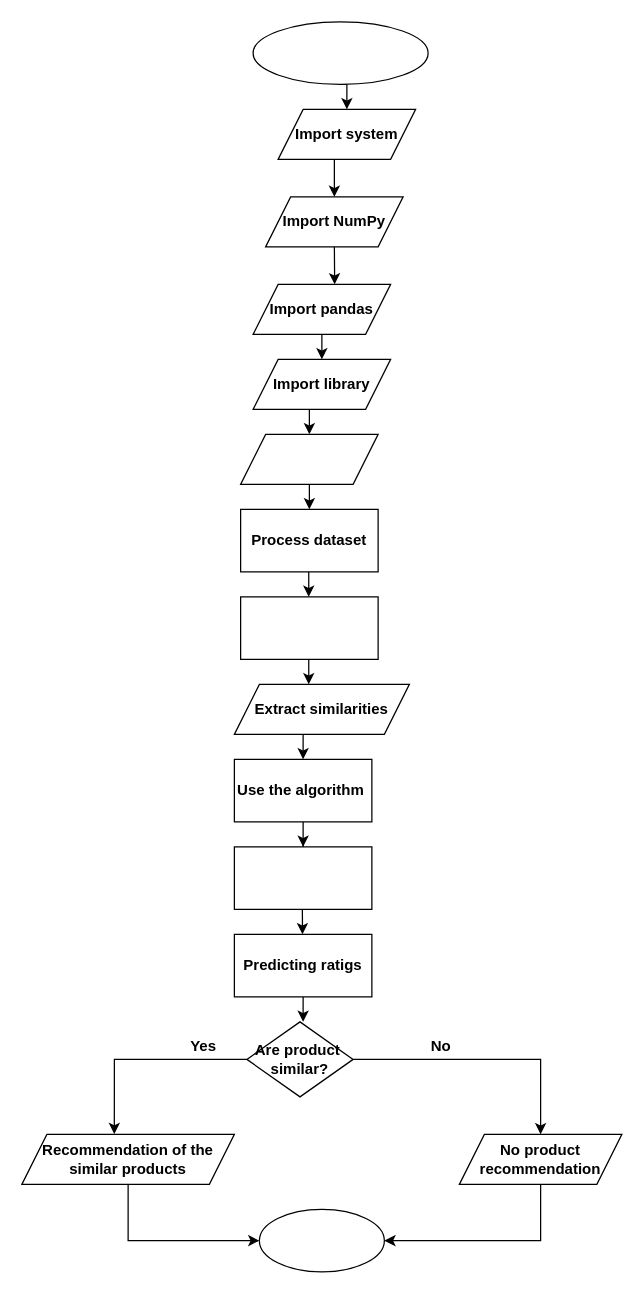
Image size: 644x1294. Some labels were removed from this diagram. The shapes that lost their labels are listed below. From the top down, each one's centre as x and y in pixels, then its label:
pixel 340 52: START
pixel 308 458: LOAD dataset
pixel 308 627: Check the missing ratings
pixel 302 877: Train the above algorithm
pixel 321 1240: END
